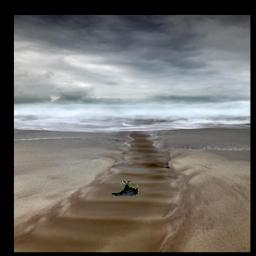Crow: (111, 181, 138, 196)
